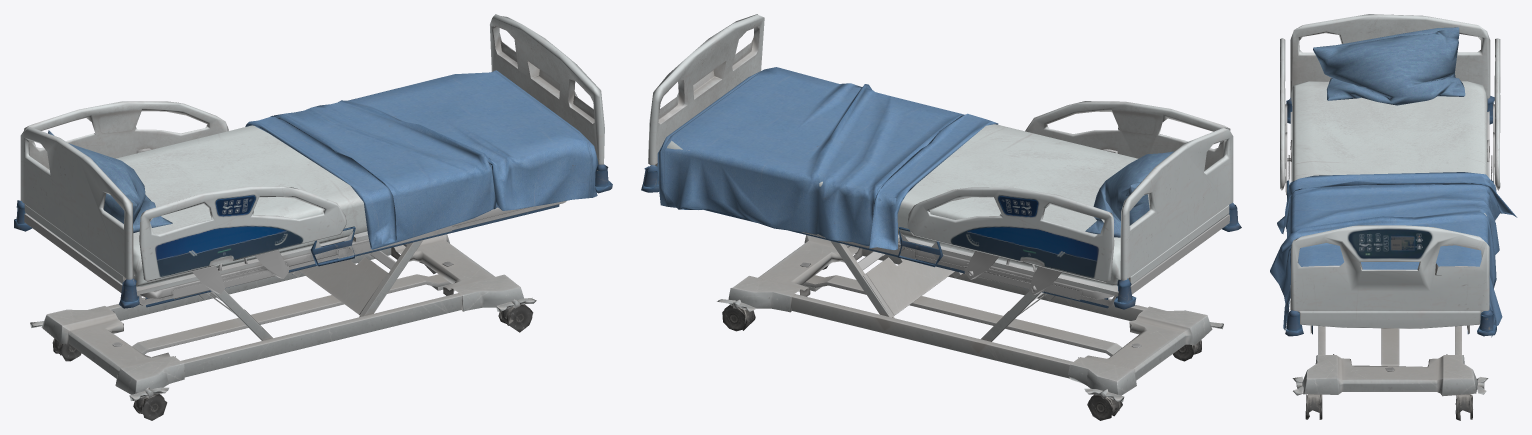
File: SM_Bed01b_LOD5_001.fbx
The picture shows the model from 3 angles, left to right: view 1: azimuth 30°, elevation 25°; view 2: azimuth 150°, elevation 25°; view 3: azimuth 270°, elevation 25°; orthographic projection. The views are drawn at different scales.
Visible parts, largest first — view 1: SM_Bed01b_LOD5.001; view 2: SM_Bed01b_LOD5.001; view 3: SM_Bed01b_LOD5.001.
Part boxes in pixels (<box>): SM_Bed01b_LOD5.001: <box>14,14,612,420</box>; SM_Bed01b_LOD5.001: <box>641,14,1241,420</box>; SM_Bed01b_LOD5.001: <box>1270,14,1517,420</box>.
Bounding box in the file's own units: 242 × 117 × 115.
